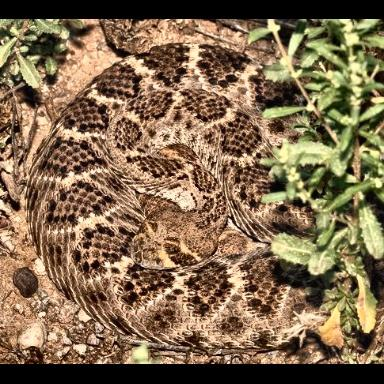snake: (14, 45, 380, 349)
